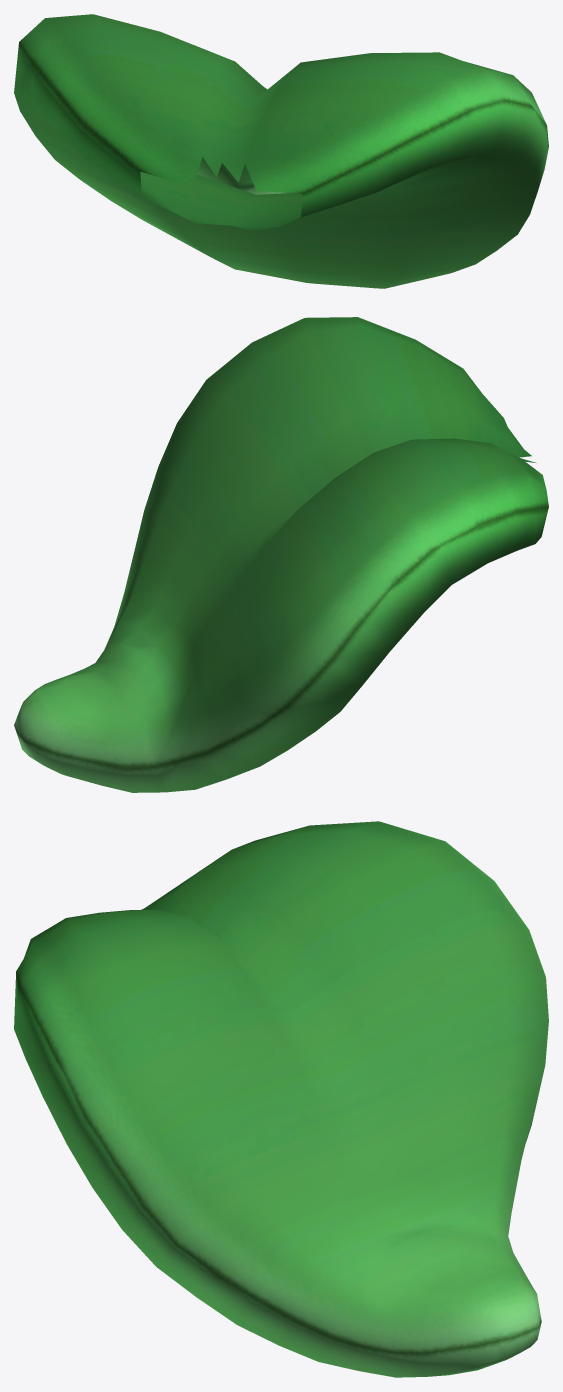
File: stuffyflower_hoja_tras_izq.obj
3 renders of one model, top to bottom at view 1: azimuth 30°, elevation 25°; view 2: azimuth 150°, elevation 25°; view 3: azimuth 270°, elevation 25°, orthographic. The views are drawn at different scales.
Parts seen in each view (by area): view 1: stuffyflower_hoja_tras_izq; view 2: stuffyflower_hoja_tras_izq; view 3: stuffyflower_hoja_tras_izq.
Part boxes in pixels (x1,y1,x2,y2): stuffyflower_hoja_tras_izq: [14, 14, 548, 288]; stuffyflower_hoja_tras_izq: [14, 317, 548, 792]; stuffyflower_hoja_tras_izq: [14, 821, 548, 1377].
Bounding box in the file's own units: 0.4006 × 0.3108 × 0.396.
